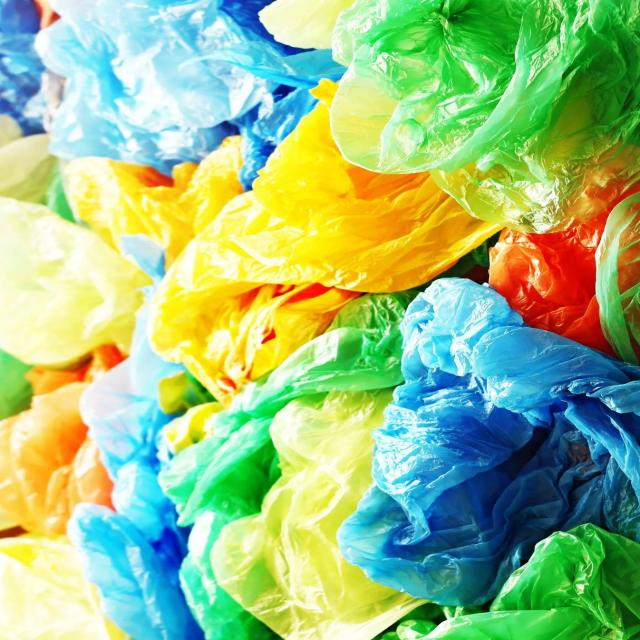plastik: (151, 82, 499, 403), (338, 279, 640, 605), (159, 293, 412, 640), (331, 0, 640, 233), (0, 0, 344, 185), (210, 388, 425, 640), (376, 525, 640, 640), (489, 181, 640, 366), (0, 198, 149, 366), (0, 344, 123, 535), (64, 136, 242, 265), (0, 534, 129, 640)
